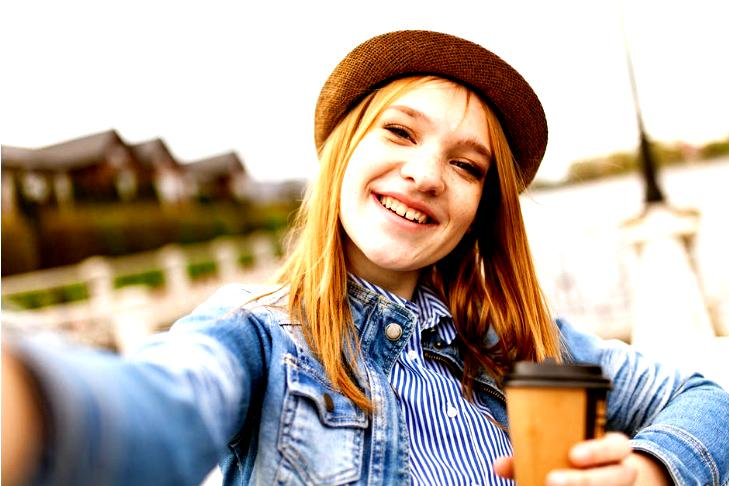face: (339, 80, 490, 269)
